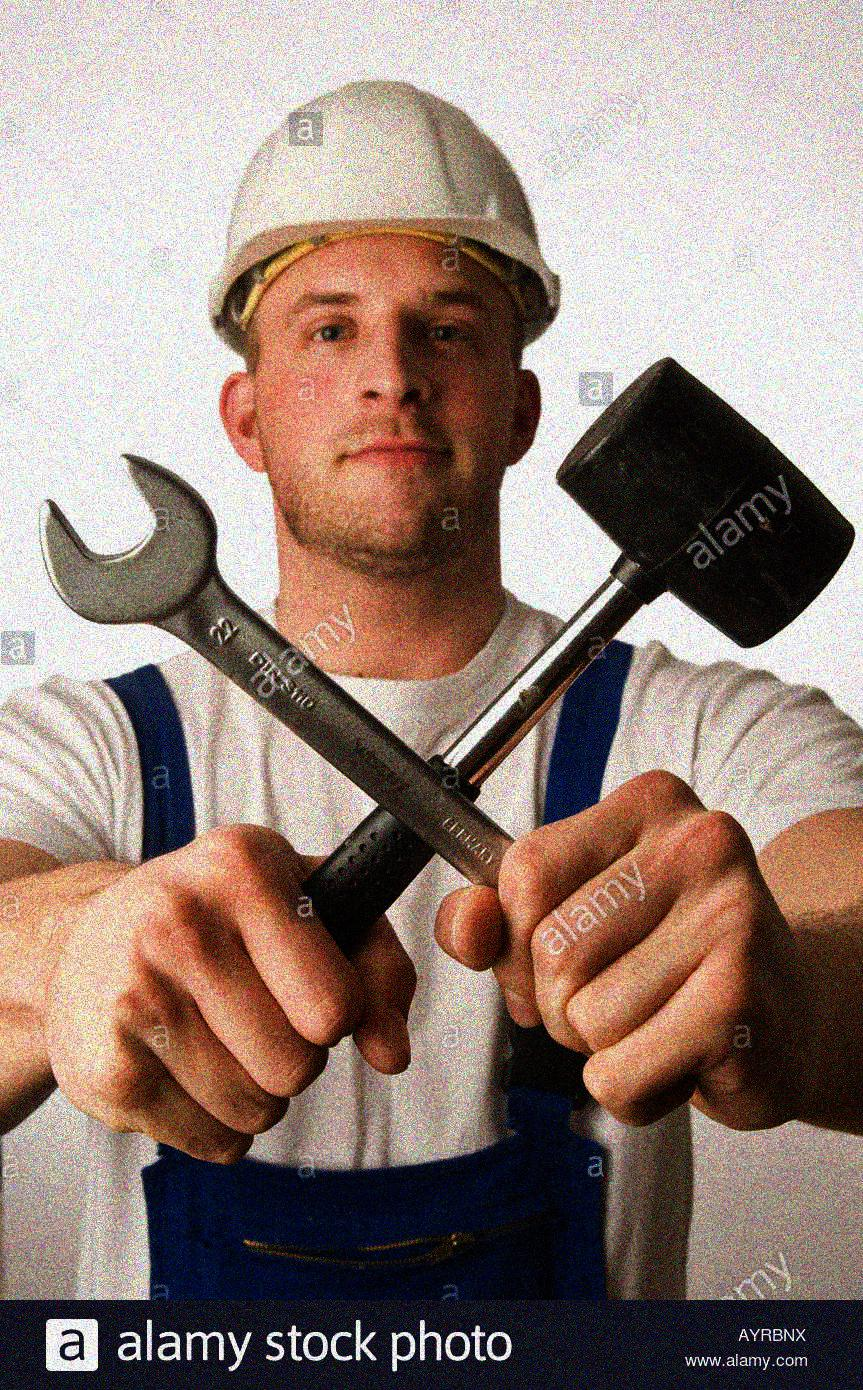helmet: (201, 73, 566, 568)
